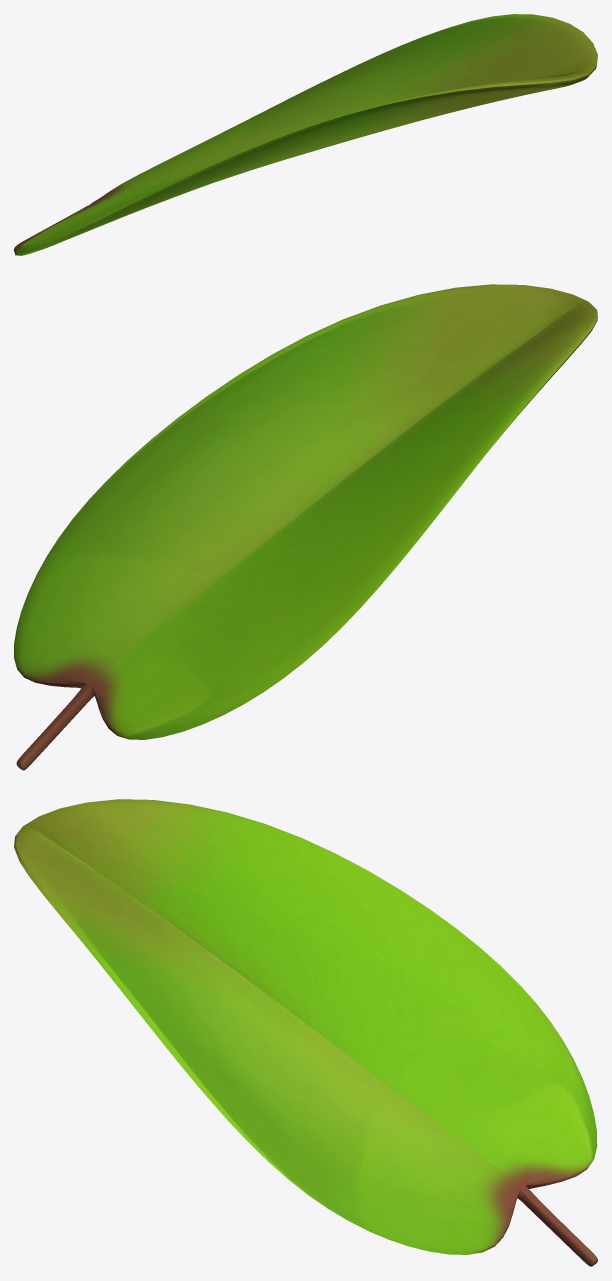
The model's file is leaf.glb.
3 renders of one model, top to bottom at view 1: azimuth 90°, elevation 25°; view 2: azimuth 150°, elevation 25°; view 3: azimuth 270°, elevation 25°, orthographic. The views are drawn at different scales.
Parts seen in each view (by area): view 1: Circle.001_1; view 2: Circle.001_1; view 3: Circle.001_1.
Part boxes in pixels (x1,y1,x2,y2): Circle.001_1: [14, 14, 597, 255]; Circle.001_1: [14, 284, 597, 770]; Circle.001_1: [14, 799, 597, 1266].
Size of the model in its own units: 1.92 by 1.42 by 2.37.
1 material, 1 textured.
